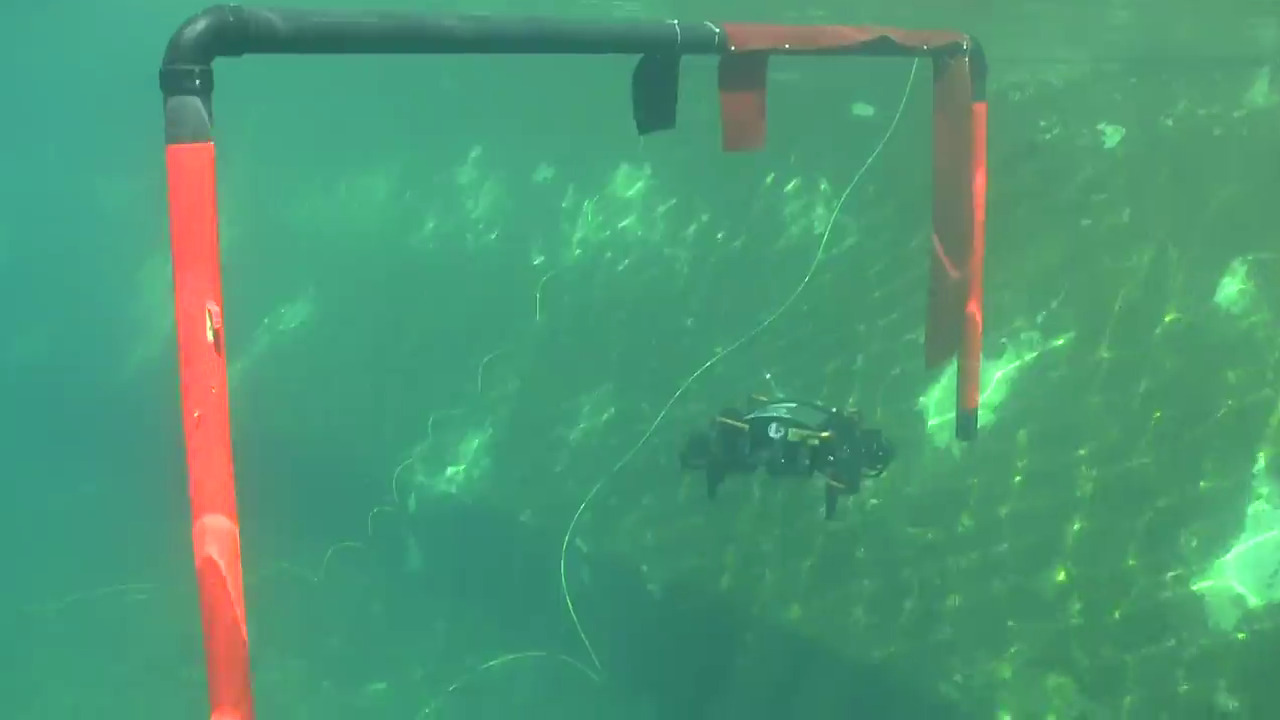gate: (148, 10, 997, 421)
